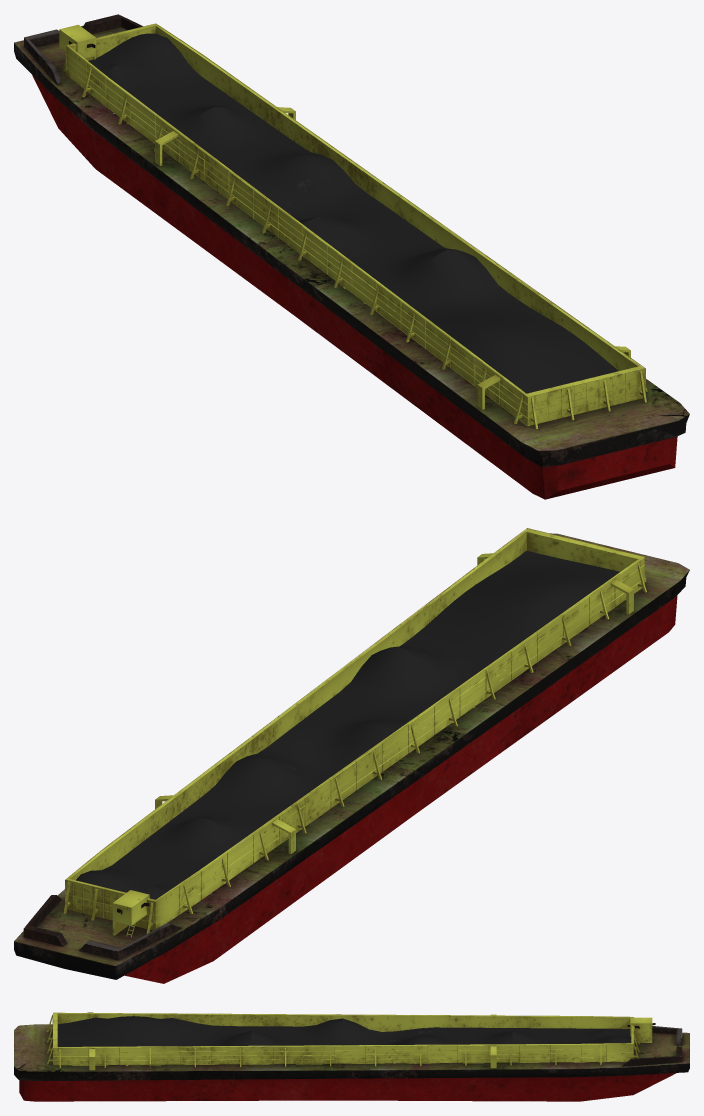
The model's file is barge.fbx.
The picture shows the model from 3 angles, top to bottom: view 1: azimuth 30°, elevation 25°; view 2: azimuth 150°, elevation 25°; view 3: azimuth 270°, elevation 25°; orthographic projection. The views are drawn at different scales.
Visible parts, largest first — view 1: kapal_tongkang_fix; view 2: kapal_tongkang_fix; view 3: kapal_tongkang_fix.
Boxes of the visible parts, x1,y1,x2,y2 form: kapal_tongkang_fix: (14, 14, 689, 499); kapal_tongkang_fix: (14, 528, 689, 983); kapal_tongkang_fix: (14, 1012, 689, 1101).
Bounding box in the file's own units: 1495 × 9004 × 865.
Materials: 2 (2 with a texture image).
